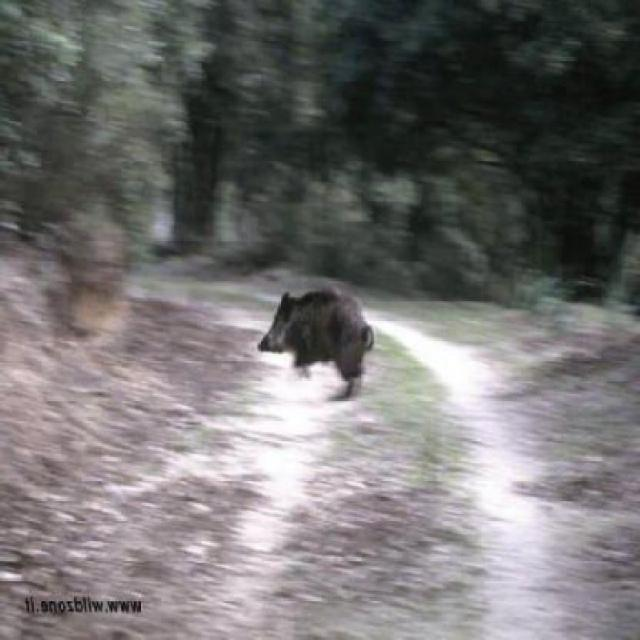Boar: (212, 245, 398, 420)
